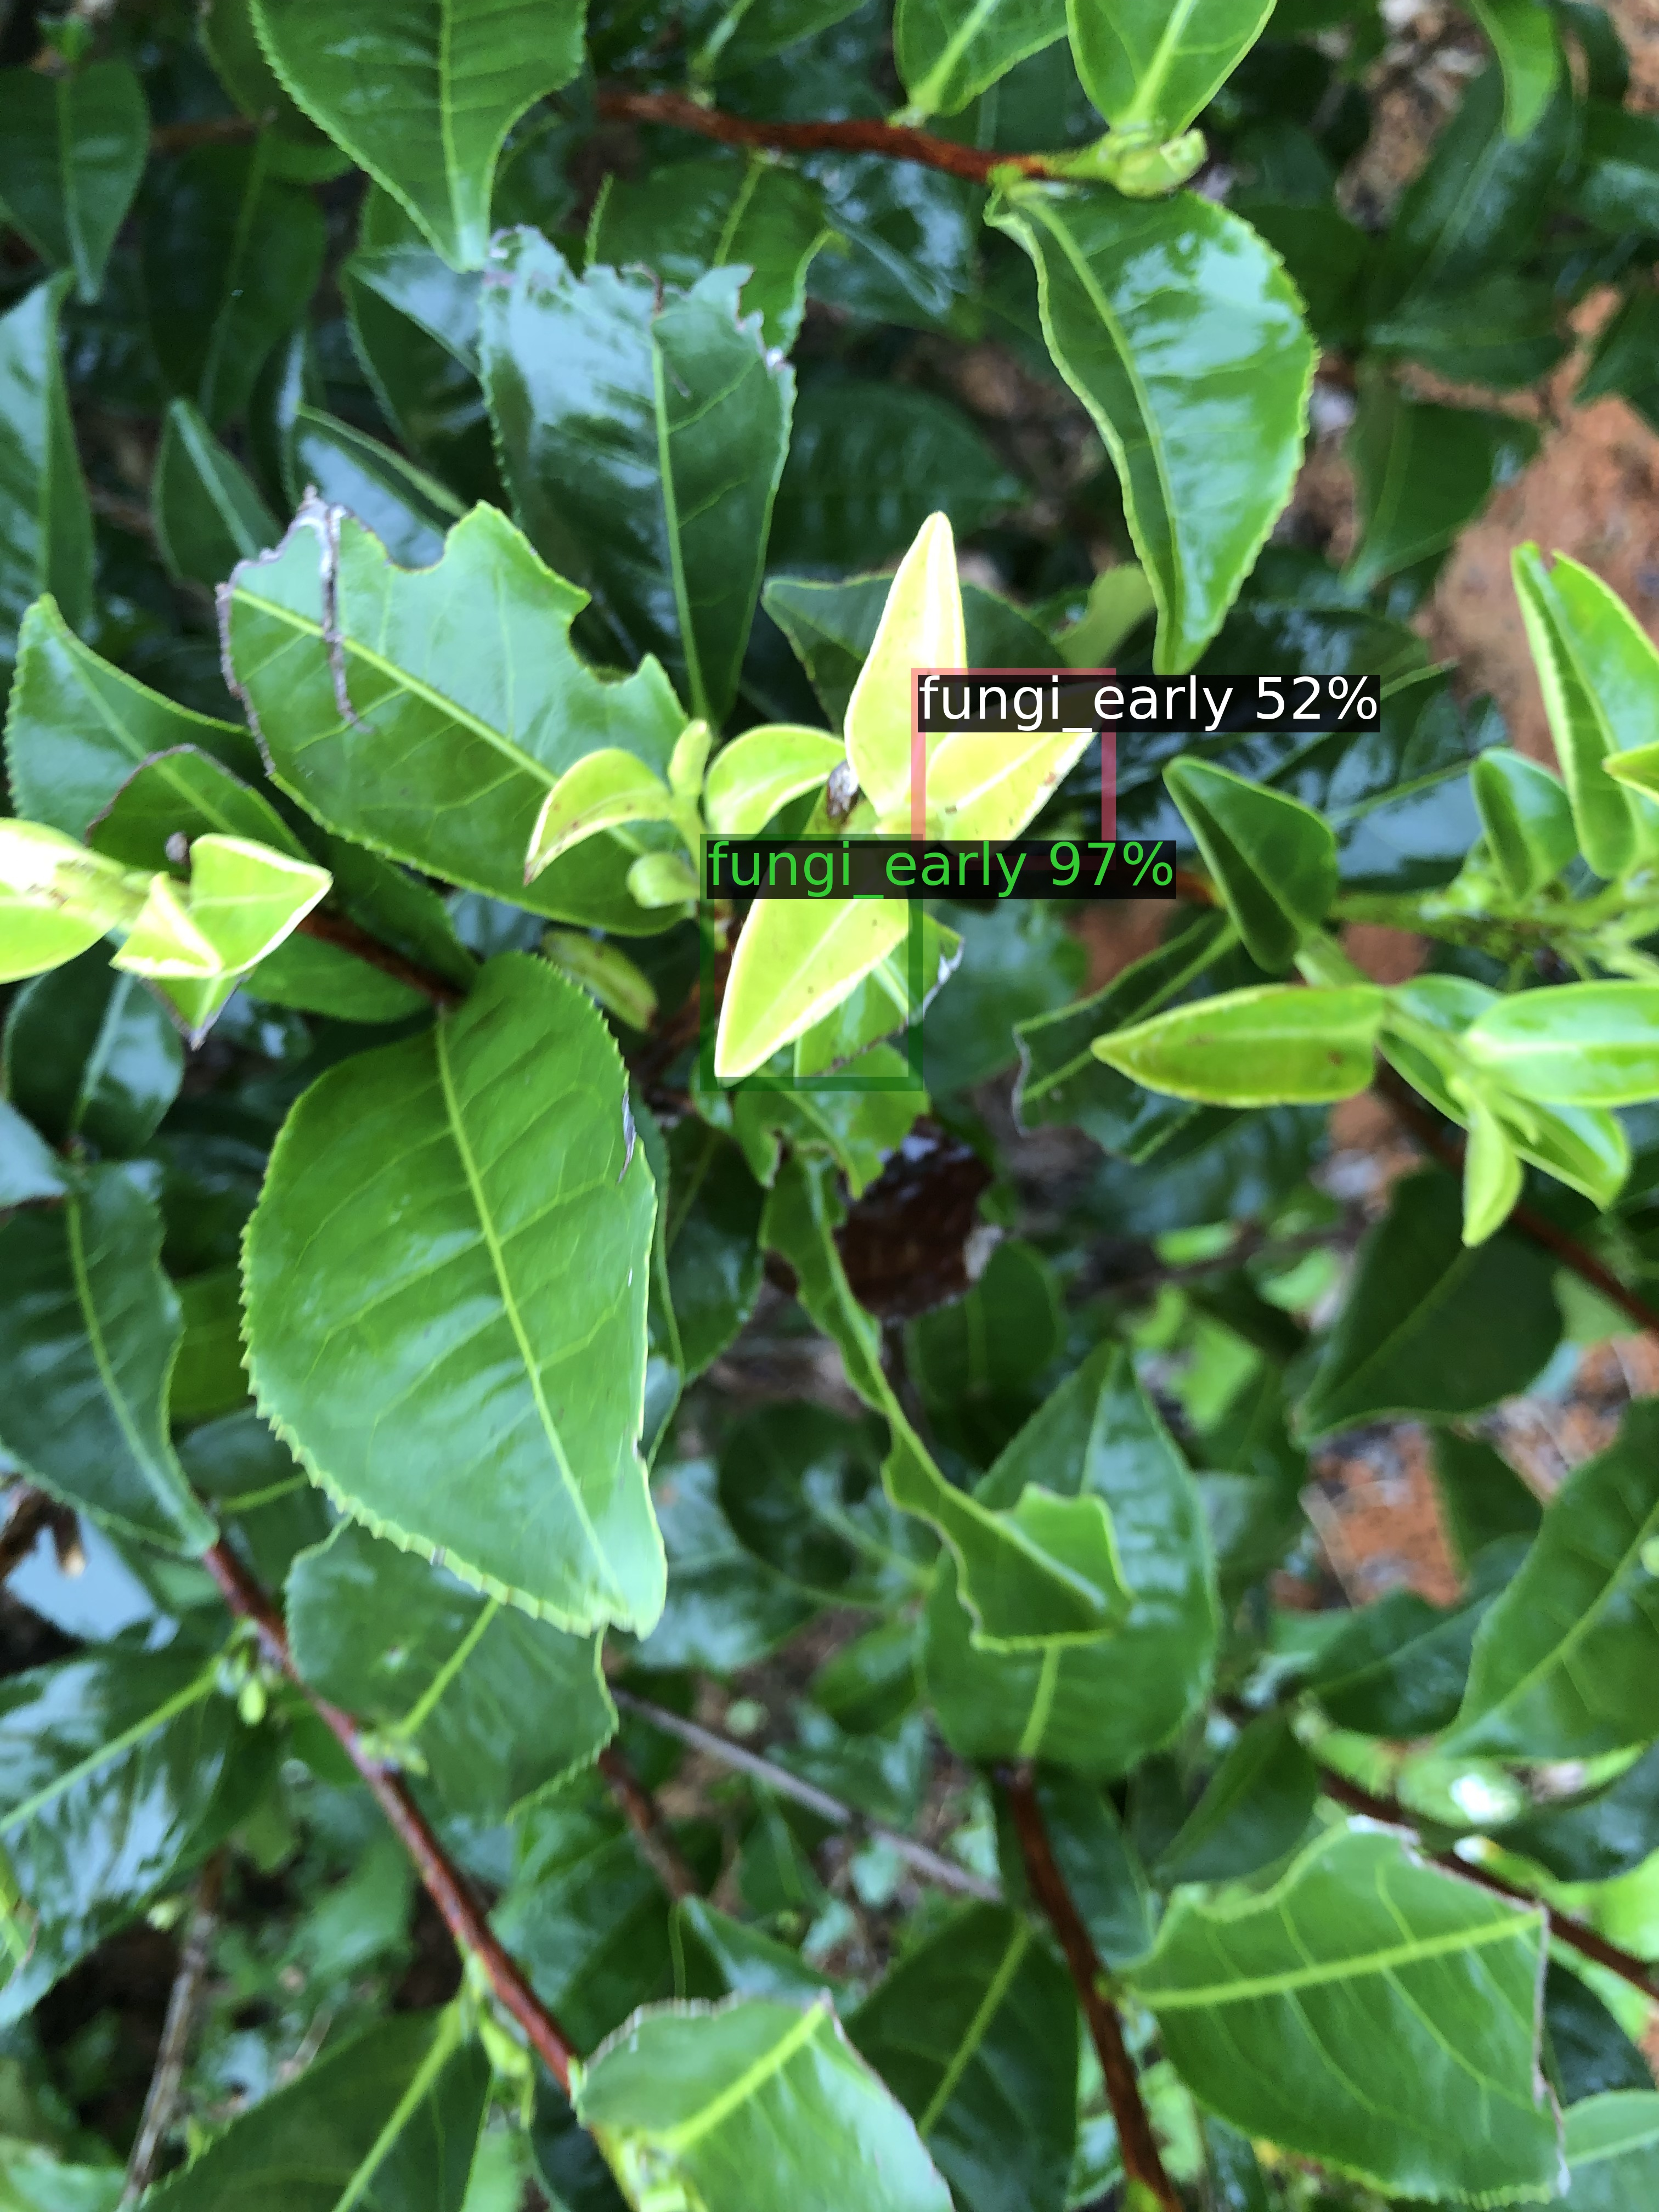fungi_early: (708, 841, 915, 1083), (918, 676, 1108, 862)
